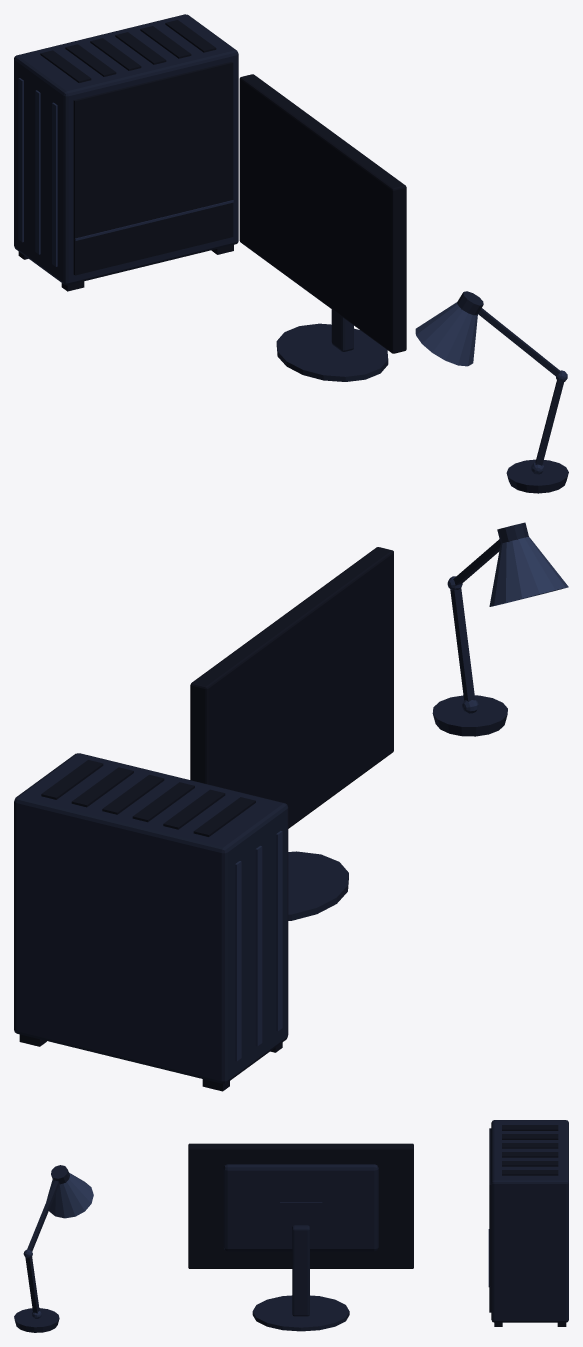
File: desk_props.glb
The picture shows the model from 3 angles, top to bottom: view 1: azimuth 30°, elevation 25°; view 2: azimuth 150°, elevation 25°; view 3: azimuth 270°, elevation 25°; orthographic projection. The views are drawn at different scales.
Visible parts, largest first — view 1: pc_case, monitor_body, lamp_body; view 2: pc_case, monitor_body, lamp_body; view 3: monitor_body, pc_case, lamp_body.
Part boxes in pixels (x1,y1,x2,y2): pc_case: (14,14,238,291); monitor_body: (239,74,406,381); lamp_body: (415,291,568,493); pc_case: (14,753,288,1091); monitor_body: (190,547,393,920); lamp_body: (432,522,568,736); monitor_body: (188,1143,413,1331); pc_case: (488,1120,568,1326); lamp_body: (14,1165,93,1332).
Size of the model in its own units: 0.4586 by 0.52 by 1.57.
1 material, 1 textured.
